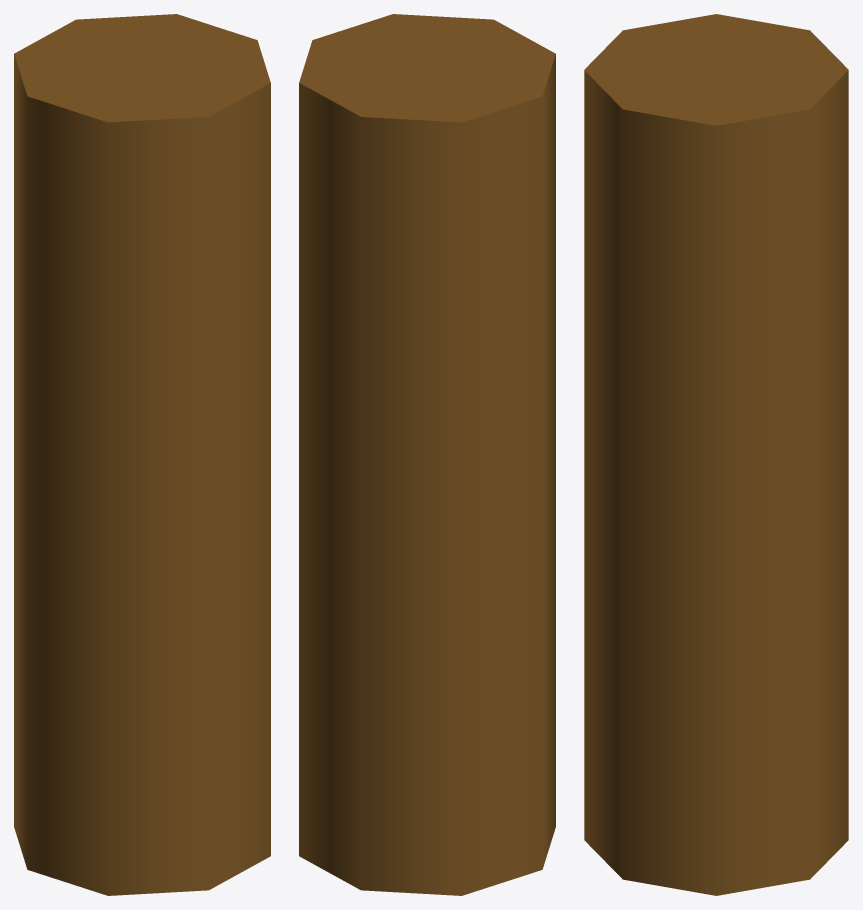
The model's file is chuansong03.fbx.
3 renders of one model, left to right at view 1: azimuth 30°, elevation 25°; view 2: azimuth 150°, elevation 25°; view 3: azimuth 270°, elevation 25°, orthographic.
Visible parts, largest first — view 1: chuansong03; view 2: chuansong03; view 3: chuansong03.
Boxes of the visible parts, x1,y1,x2,y2 form: chuansong03: [14, 14, 270, 895]; chuansong03: [299, 14, 555, 895]; chuansong03: [584, 14, 848, 895].
Bounding box in the file's own units: 2.52 × 8.09 × 2.52.
